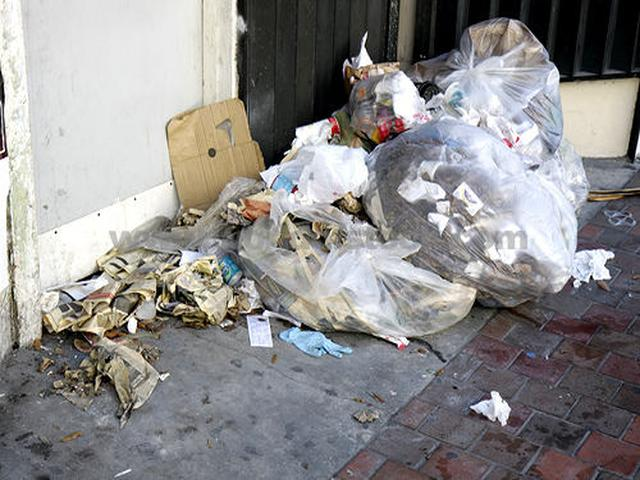garbage: (238, 177, 552, 304), (349, 70, 549, 181), (117, 240, 308, 311)
